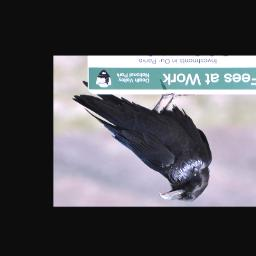Crow: (71, 79, 212, 202)
